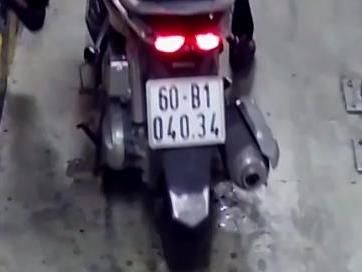num_plate: (146, 75, 224, 148)
